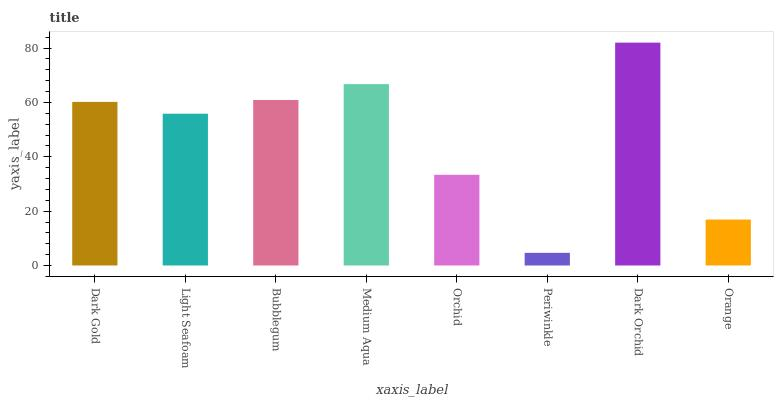axis: (39, 31, 58, 276)
label: (356, 285, 378, 372), (177, 285, 198, 372), (265, 285, 287, 361), (538, 283, 560, 352), (86, 284, 108, 349), (630, 288, 649, 360), (445, 284, 468, 334), (718, 284, 738, 335)
rectangle: (615, 44, 660, 265), (345, 84, 389, 266), (254, 99, 299, 266), (72, 103, 118, 265), (162, 114, 209, 266), (435, 175, 479, 266), (706, 220, 752, 266), (525, 254, 570, 265)
title: (47, 6, 88, 29)
